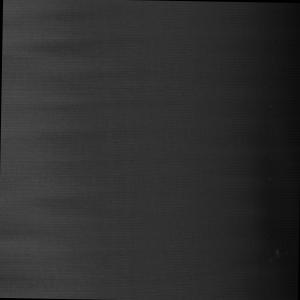Wrinkle: (1, 1, 166, 300), (212, 2, 300, 300)
